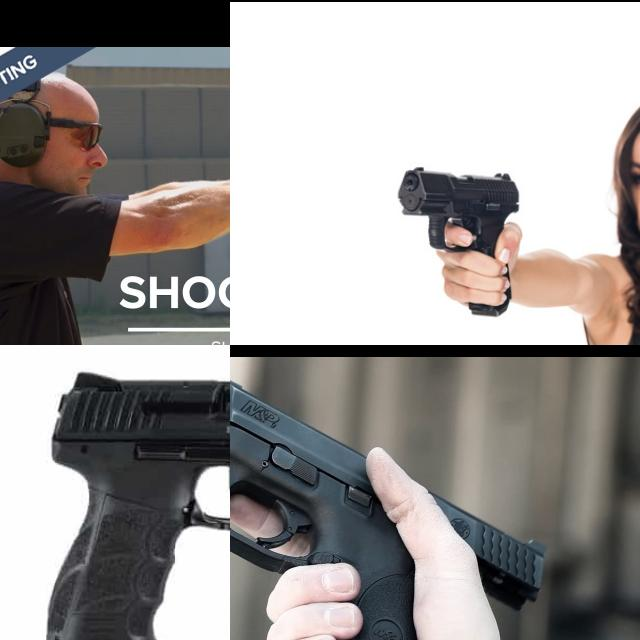handgun: (230, 357, 549, 640), (41, 364, 230, 640), (395, 162, 523, 255)
